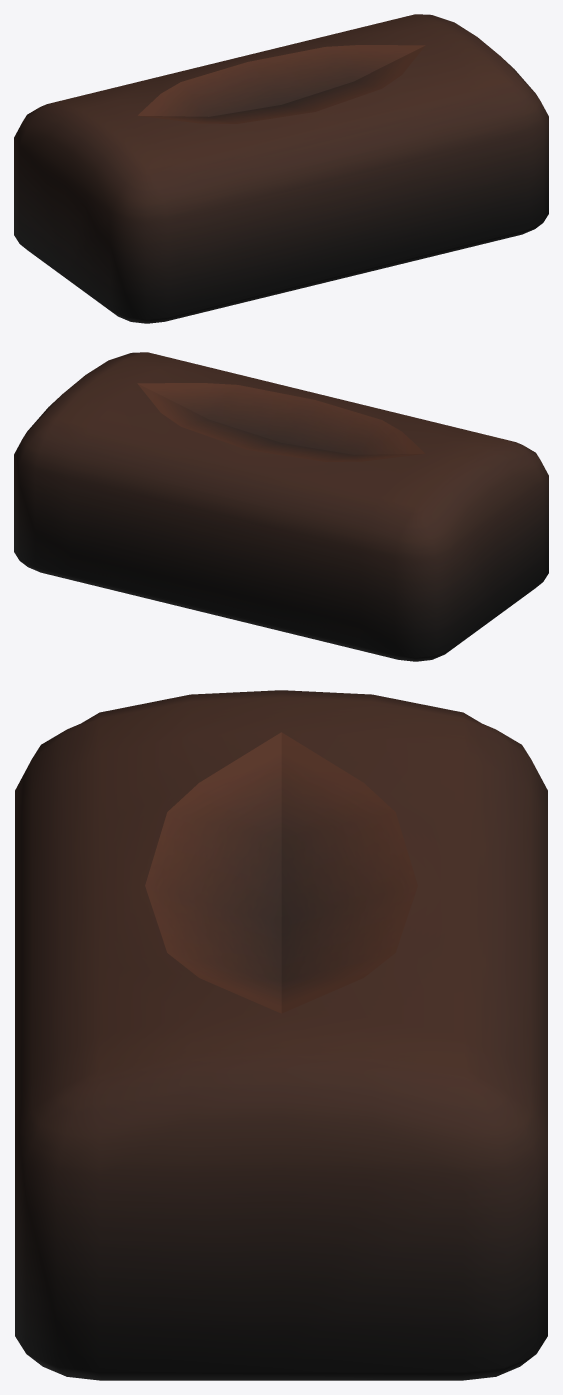
File: m_LoafCake03.fbx
3 renders of one model, top to bottom at view 1: azimuth 30°, elevation 25°; view 2: azimuth 150°, elevation 25°; view 3: azimuth 270°, elevation 25°, orthographic. The views are drawn at different scales.
Visible parts, largest first — view 1: m_LoafCake03; view 2: m_LoafCake03; view 3: m_LoafCake03.
Part boxes in pixels (bbox=[...]): m_LoafCake03: bbox=[14, 14, 548, 323]; m_LoafCake03: bbox=[14, 352, 548, 661]; m_LoafCake03: bbox=[15, 690, 547, 1380].
Size of the model in its own units: 30 by 10.08 by 16.
